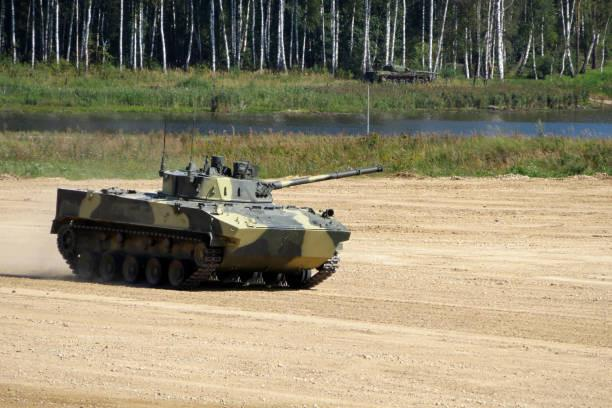tank: (50, 153, 384, 292)
